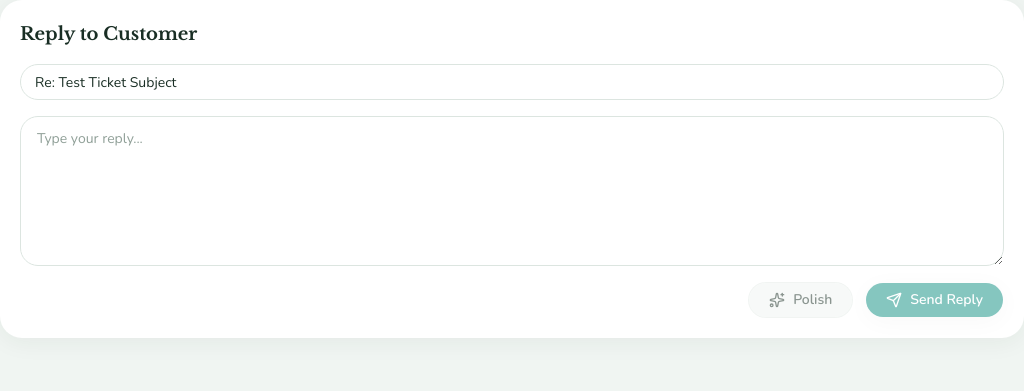
Test: ReplyForm › displays error message on submission failure
Expected: the text "Reply to Customer" is shown, x1=20 y1=23 x2=197 y2=45
Fill in the form
Type "This is a test reply" into the text box with placeholder "Type your reply..." at point(512, 191), box x1=20 y1=116 x2=1004 y2=266
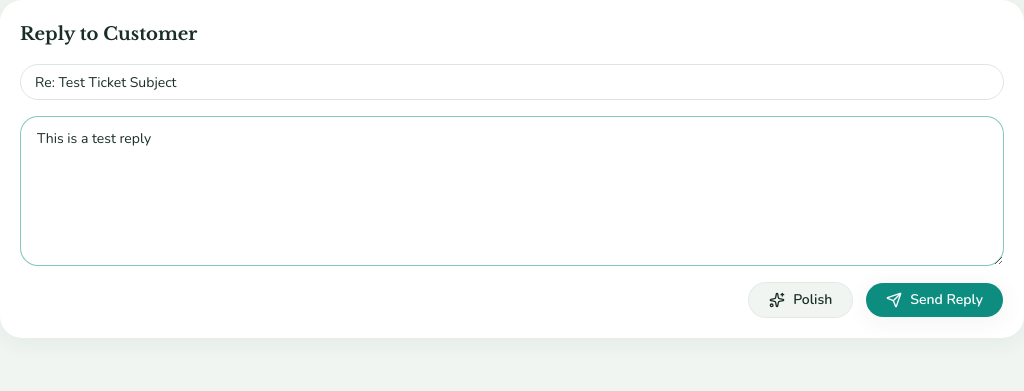
Submit form
Click the button "Send Reply" at point(935, 300), box x1=865 y1=282 x2=1004 y2=318
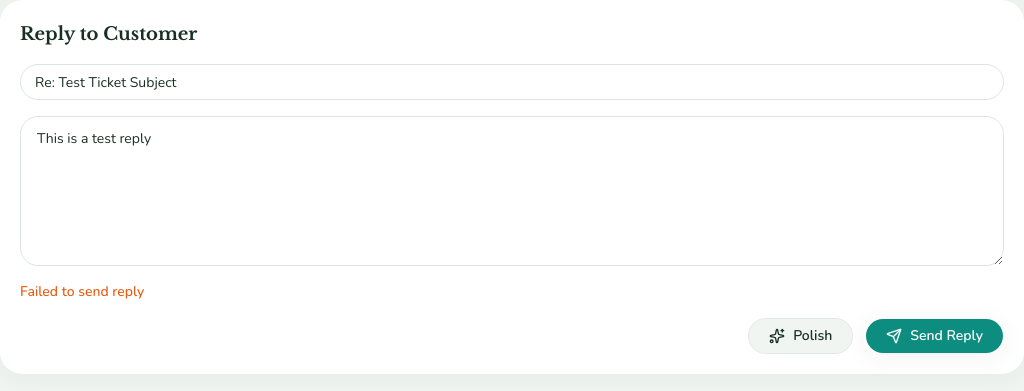
Result: the text "Failed to send reply" is shown at x1=20 y1=282 x2=144 y2=301
